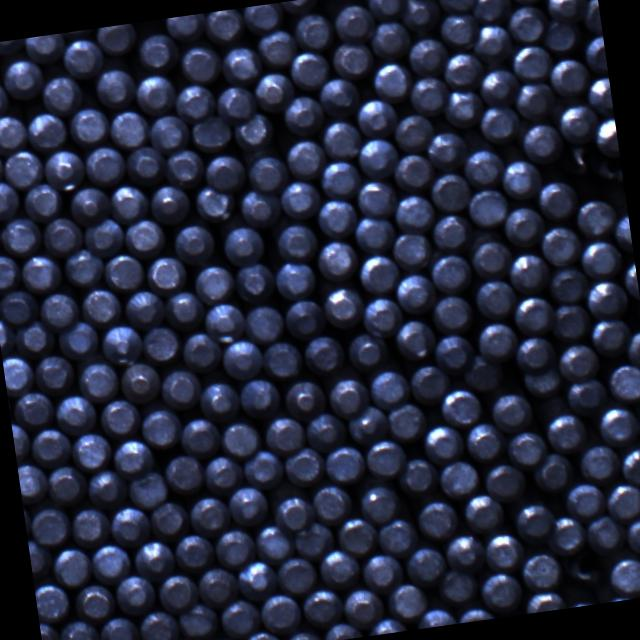tool: (84, 142, 130, 188), (164, 452, 210, 498), (196, 562, 242, 608), (2, 55, 48, 101), (478, 568, 524, 614), (238, 374, 284, 420), (416, 496, 462, 542), (282, 374, 328, 420), (472, 276, 518, 322), (584, 276, 630, 322), (595, 401, 640, 448), (280, 91, 325, 138), (260, 590, 305, 636), (234, 557, 280, 602), (89, 540, 134, 586), (78, 359, 124, 404), (42, 147, 87, 193), (420, 421, 466, 466), (132, 538, 178, 583), (68, 183, 114, 228), (187, 492, 232, 538), (198, 378, 243, 424), (342, 586, 387, 632), (242, 446, 287, 492), (100, 321, 146, 366), (221, 224, 267, 269), (108, 503, 154, 548), (54, 392, 100, 437), (316, 236, 361, 282), (393, 317, 438, 363), (356, 136, 401, 182), (354, 94, 399, 140), (322, 284, 366, 331), (489, 389, 534, 434), (222, 337, 267, 382), (212, 525, 257, 570), (140, 404, 185, 449), (204, 300, 249, 345), (284, 296, 329, 341), (543, 410, 588, 455), (404, 545, 449, 590), (40, 214, 86, 258), (115, 572, 159, 618), (438, 456, 484, 500), (476, 318, 520, 364), (120, 359, 164, 405), (50, 543, 94, 589), (254, 70, 298, 116), (362, 292, 406, 338), (318, 546, 364, 590), (124, 286, 168, 332), (439, 384, 485, 428), (360, 550, 406, 594), (362, 434, 408, 478), (132, 70, 176, 116), (172, 220, 218, 264), (32, 352, 76, 398), (302, 332, 348, 376), (544, 512, 588, 558), (539, 222, 583, 268), (346, 401, 392, 445), (238, 184, 284, 228), (316, 158, 362, 202), (507, 250, 551, 296), (45, 463, 89, 508), (30, 425, 74, 470), (160, 367, 204, 412), (179, 42, 224, 86), (336, 513, 380, 558), (178, 415, 222, 460), (432, 330, 477, 374), (41, 72, 86, 116), (328, 376, 373, 420), (156, 570, 201, 614), (386, 580, 431, 624), (311, 480, 355, 525), (500, 157, 544, 202), (272, 258, 317, 302), (485, 461, 530, 505), (332, 2, 377, 46), (575, 194, 620, 238), (443, 530, 488, 574), (221, 44, 265, 89), (85, 464, 130, 508), (532, 449, 576, 494), (502, 203, 546, 248), (512, 500, 557, 544), (56, 319, 102, 362), (146, 253, 190, 297), (226, 484, 270, 528), (1, 147, 45, 191), (26, 110, 70, 154), (284, 446, 328, 490), (265, 413, 309, 457), (30, 504, 74, 548), (172, 82, 216, 126), (564, 478, 608, 522), (302, 584, 346, 628), (368, 366, 412, 410), (288, 48, 332, 92), (0, 213, 44, 257), (306, 408, 350, 452), (276, 553, 320, 597), (112, 436, 156, 480), (70, 506, 114, 550), (409, 360, 453, 404), (323, 442, 367, 486), (70, 430, 114, 474), (108, 181, 152, 225), (202, 452, 246, 496), (254, 520, 298, 564), (126, 144, 170, 188), (19, 252, 63, 296), (60, 36, 104, 80), (316, 196, 360, 240), (192, 261, 236, 305), (284, 138, 328, 182), (548, 56, 592, 100), (317, 76, 361, 120), (394, 272, 438, 316), (84, 215, 128, 259), (512, 294, 556, 338), (430, 250, 474, 294), (148, 498, 192, 542), (162, 287, 206, 331), (357, 482, 401, 526), (94, 66, 138, 110), (358, 252, 402, 296), (536, 179, 580, 223), (392, 191, 436, 235), (584, 512, 628, 556), (462, 490, 506, 534), (424, 130, 468, 174), (482, 528, 526, 572), (478, 102, 522, 146), (368, 18, 412, 62), (123, 217, 168, 260), (376, 514, 421, 557), (218, 597, 263, 640), (464, 419, 507, 464), (147, 181, 190, 225), (127, 467, 171, 510), (163, 146, 206, 190), (64, 247, 108, 290), (245, 302, 288, 346), (279, 177, 323, 220), (67, 105, 111, 148), (216, 83, 260, 126), (521, 121, 564, 165), (220, 416, 264, 459), (294, 521, 338, 564), (578, 442, 622, 485), (72, 581, 116, 624), (80, 285, 124, 328), (428, 170, 472, 213), (180, 331, 223, 375), (274, 222, 318, 265), (406, 34, 449, 78), (588, 314, 632, 357), (564, 374, 609, 416), (353, 214, 398, 256), (147, 111, 190, 154), (347, 330, 390, 373), (386, 402, 429, 445), (396, 456, 439, 499), (319, 119, 362, 162), (470, 239, 513, 282), (462, 146, 505, 189), (204, 152, 248, 194), (104, 252, 148, 294), (506, 428, 550, 470), (262, 338, 306, 380), (38, 289, 82, 331), (466, 186, 510, 228), (97, 394, 141, 436), (370, 59, 412, 103), (192, 182, 236, 224), (460, 351, 504, 393), (332, 40, 376, 82), (392, 112, 436, 154), (579, 238, 623, 280), (354, 178, 398, 220), (556, 340, 600, 382), (442, 48, 486, 90), (190, 112, 236, 152), (172, 532, 215, 574), (24, 181, 66, 224), (108, 107, 150, 150), (140, 323, 182, 366), (432, 292, 475, 334), (12, 388, 55, 430), (257, 27, 300, 69), (136, 31, 179, 73), (233, 262, 276, 304), (15, 316, 58, 358), (444, 88, 487, 130), (478, 65, 520, 108), (438, 10, 481, 52), (232, 110, 276, 151), (176, 600, 221, 640), (294, 11, 336, 53), (430, 212, 472, 254), (554, 102, 596, 144), (514, 78, 556, 120), (521, 550, 564, 591), (272, 494, 316, 534), (437, 566, 481, 606), (246, 154, 288, 195), (394, 151, 436, 192), (392, 229, 434, 270), (506, 2, 549, 42), (550, 301, 591, 342), (548, 264, 589, 305), (410, 74, 450, 116), (511, 44, 553, 84), (514, 334, 556, 374), (34, 580, 72, 624), (519, 364, 564, 401), (605, 478, 640, 522), (0, 289, 39, 328), (541, 16, 581, 54), (607, 555, 640, 601), (204, 8, 246, 44), (137, 606, 181, 640), (2, 352, 35, 397), (607, 360, 640, 404), (94, 23, 138, 56), (18, 461, 50, 505), (24, 33, 66, 65), (242, 2, 284, 34), (0, 112, 30, 156), (399, 0, 441, 31), (165, 13, 208, 42), (28, 538, 56, 582), (98, 613, 142, 640), (524, 587, 566, 614), (543, 0, 588, 25), (586, 76, 614, 116), (58, 615, 102, 640), (594, 116, 620, 158), (413, 606, 456, 630), (584, 36, 608, 78), (12, 420, 34, 464), (619, 443, 640, 489), (0, 178, 21, 222), (612, 212, 634, 254), (470, 0, 512, 22), (365, 0, 407, 21), (0, 251, 22, 291), (366, 616, 410, 636), (323, 619, 364, 640), (456, 604, 499, 624), (621, 258, 640, 300), (0, 312, 18, 356), (582, 0, 603, 37), (625, 514, 640, 558), (625, 326, 640, 370), (436, 0, 478, 15), (281, 0, 321, 15), (22, 499, 34, 542), (242, 628, 283, 640), (0, 39, 27, 57), (39, 619, 62, 640), (283, 628, 323, 640), (598, 593, 636, 604)
tool_b: (557, 549, 604, 591), (559, 143, 594, 180), (592, 153, 624, 190)
